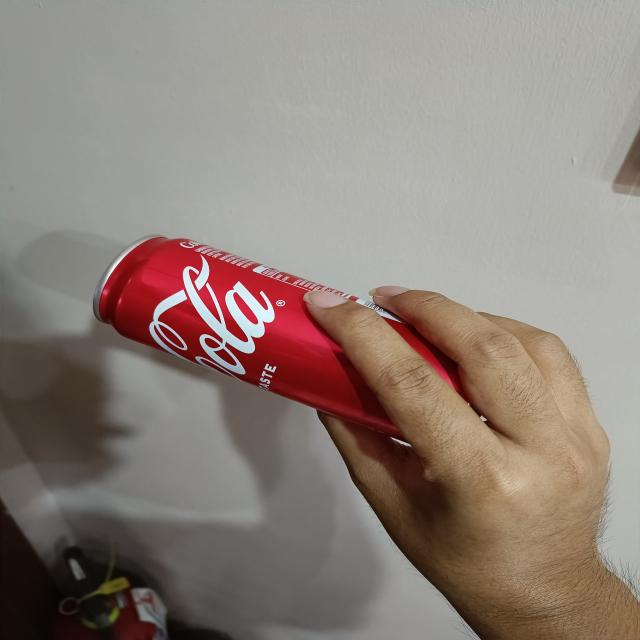coke: (91, 235, 486, 439)
